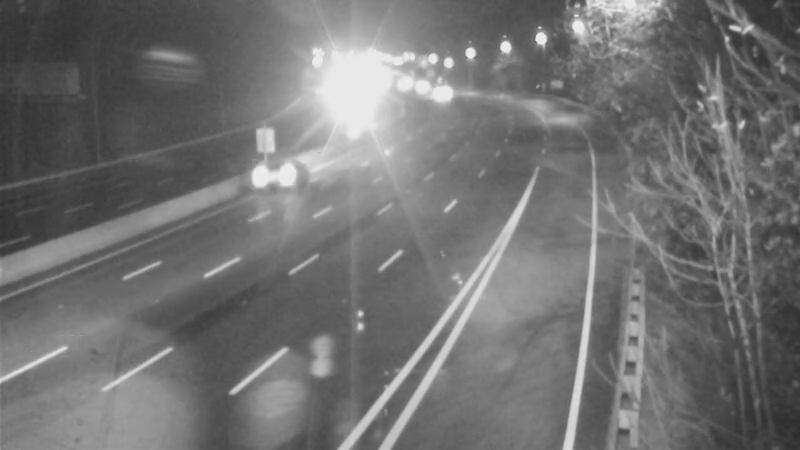vehicle: (234, 136, 314, 216), (418, 69, 468, 119)
